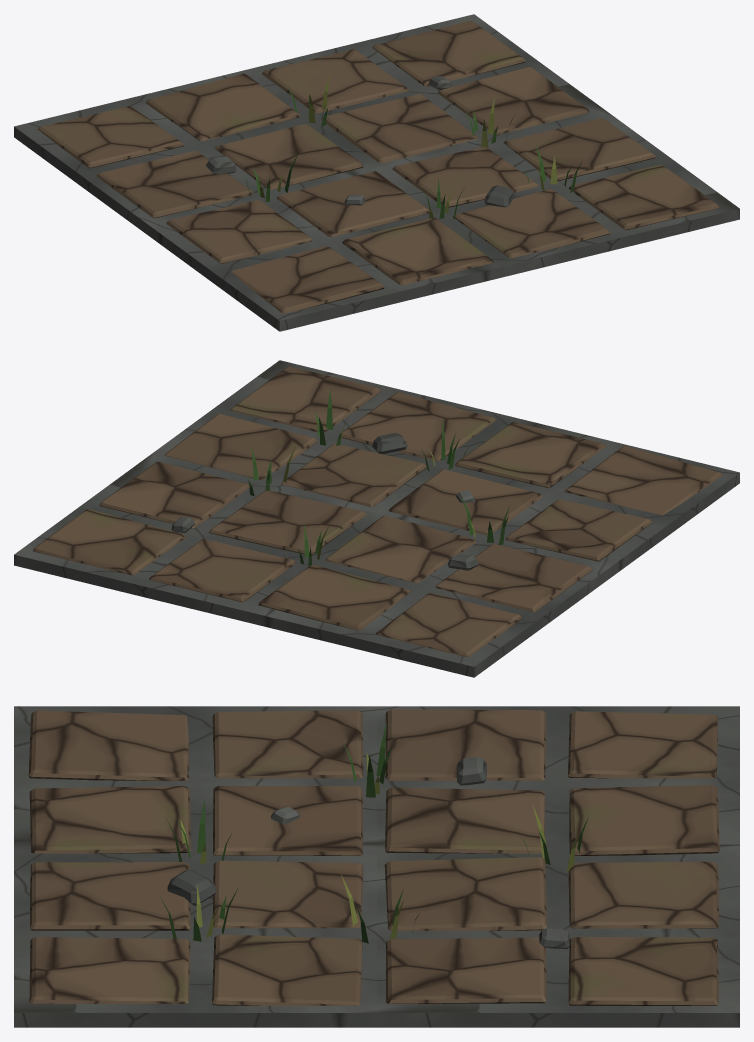
The model's file is env_ground_cracked_earth.glb.
3 renders of one model, top to bottom at view 1: azimuth 30°, elevation 25°; view 2: azimuth 150°, elevation 25°; view 3: azimuth 270°, elevation 25°, orthographic. The views are drawn at different scales.
Visible parts, largest first — view 1: Env_ground_cracked_earth; view 2: Env_ground_cracked_earth; view 3: Env_ground_cracked_earth.
Boxes of the visible parts, x1,y1,x2,y2 form: Env_ground_cracked_earth: (14, 14, 739, 331); Env_ground_cracked_earth: (14, 360, 739, 677); Env_ground_cracked_earth: (14, 706, 739, 1027).
Bounding box in the file's own units: 4 × 0.4022 × 4.
Materials: 4 (4 with a texture image).
